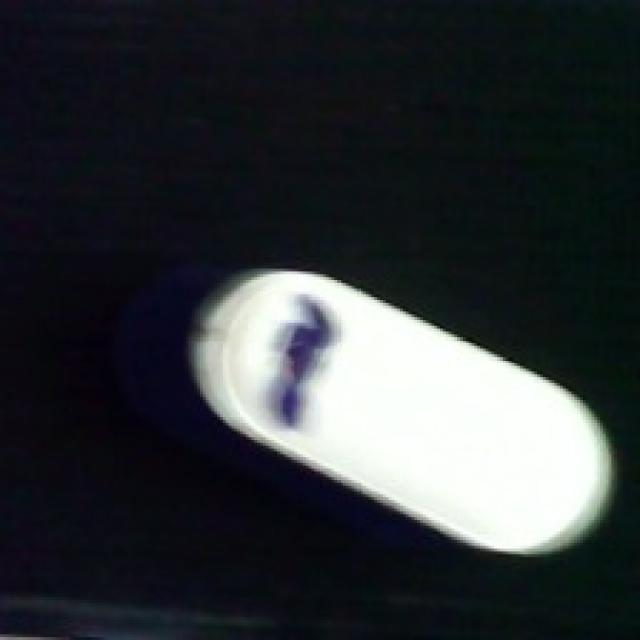defected: (182, 264, 623, 561)
